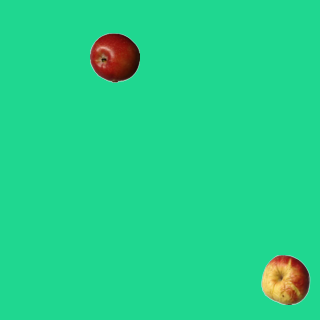Apple Braeburn: (89, 32, 139, 82)
Apple Red Yellow 1: (260, 254, 310, 304)
